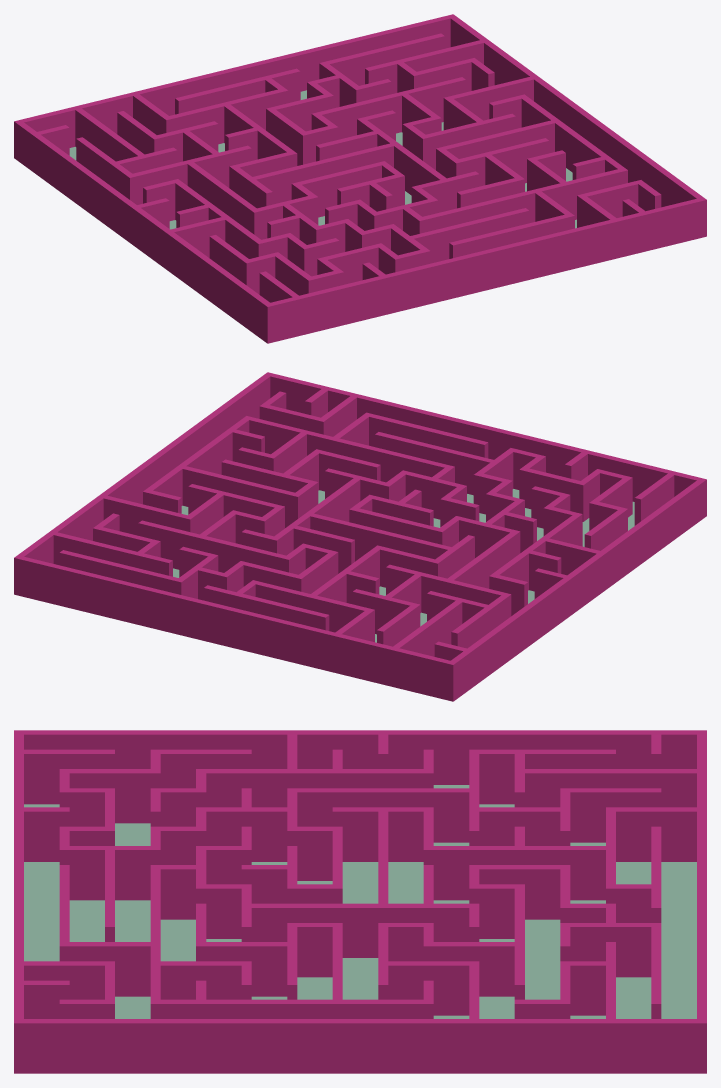
Rendered from Level44Ground.FBX.
3 renders of one model, top to bottom at view 1: azimuth 30°, elevation 25°; view 2: azimuth 150°, elevation 25°; view 3: azimuth 270°, elevation 25°, orthographic. The views are drawn at different scales.
Parts seen in each view (by area): view 1: pPlane2; view 2: pPlane2; view 3: pPlane2.
Boxes of the visible parts, x1=… form: pPlane2: x1=14, y1=14, x2=706, y2=343; pPlane2: x1=14, y1=372, x2=706, y2=701; pPlane2: x1=14, y1=730, x2=706, y2=1073.
Size of the model in its own units: 350 by 28 by 350.
